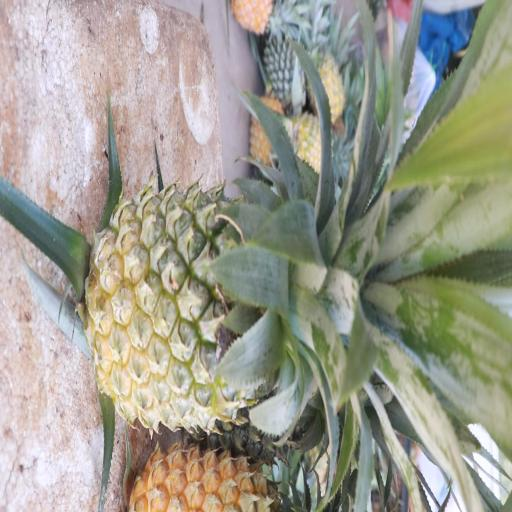------------------------------: (89, 192, 366, 434)
Pineapple - v8 v1: (306, 26, 348, 121)
